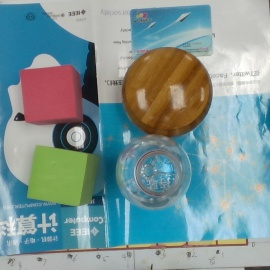bottle: (117, 135, 191, 208)
card: (129, 5, 214, 57)
chess: (122, 47, 212, 136)
